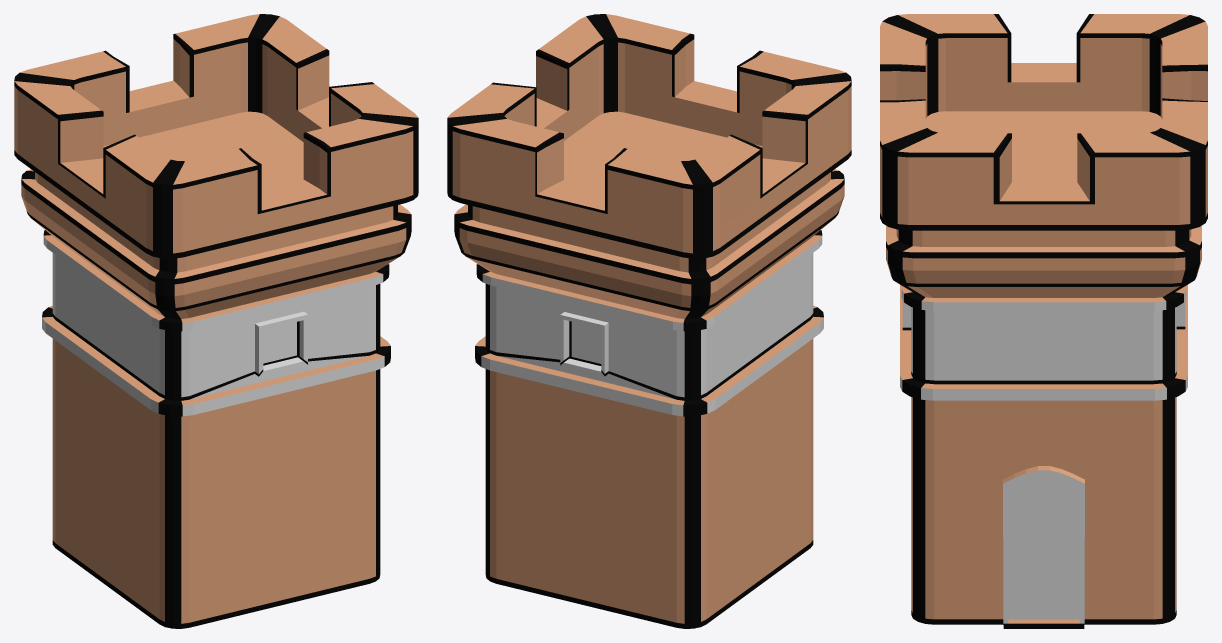
The model's file is CardboardCastle01.fbx.
3 views of the same model, side by side, from view 1: azimuth 30°, elevation 25°; view 2: azimuth 150°, elevation 25°; view 3: azimuth 270°, elevation 25° (orthographic). The views are drawn at different scales.
Parts seen in each view (by area): view 1: Cube.025; view 2: Cube.025; view 3: Cube.025.
Part boxes in pixels (bbox=[...]): Cube.025: bbox=[14, 14, 418, 628]; Cube.025: bbox=[447, 14, 851, 628]; Cube.025: bbox=[880, 14, 1207, 628].
Bounding box in the file's own units: 1759 × 2874 × 1759.
